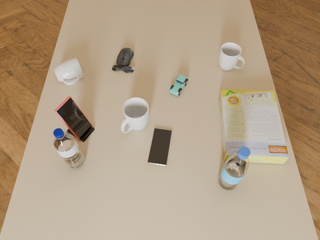bottle: (218, 147, 250, 190), (53, 128, 85, 169)
box: (219, 89, 289, 164)
cup: (121, 98, 149, 133), (54, 58, 84, 85), (219, 43, 245, 71)
mouse: (112, 48, 134, 73)
phone: (55, 97, 92, 140), (148, 128, 172, 166)
toy_car: (170, 75, 188, 95)
